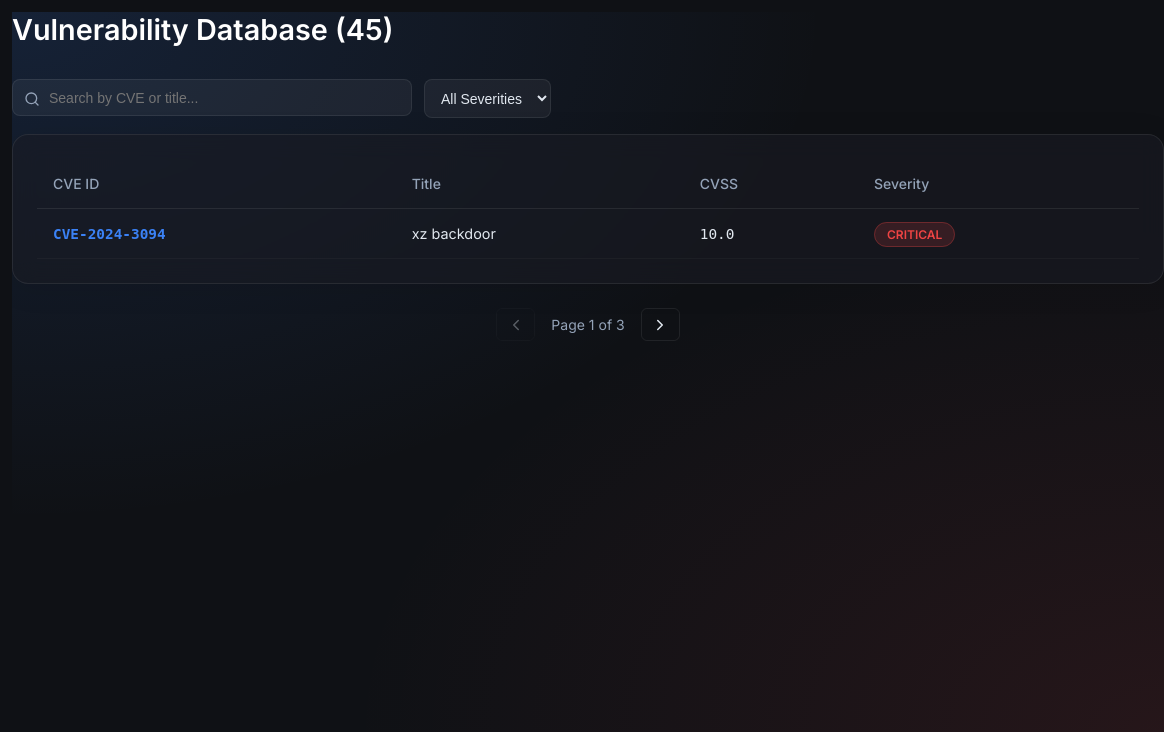
Scenario: VulnerabilitiesList › pages through the catalogue
Click the button named "Next page" at (660, 325), box [641,308,680,341]
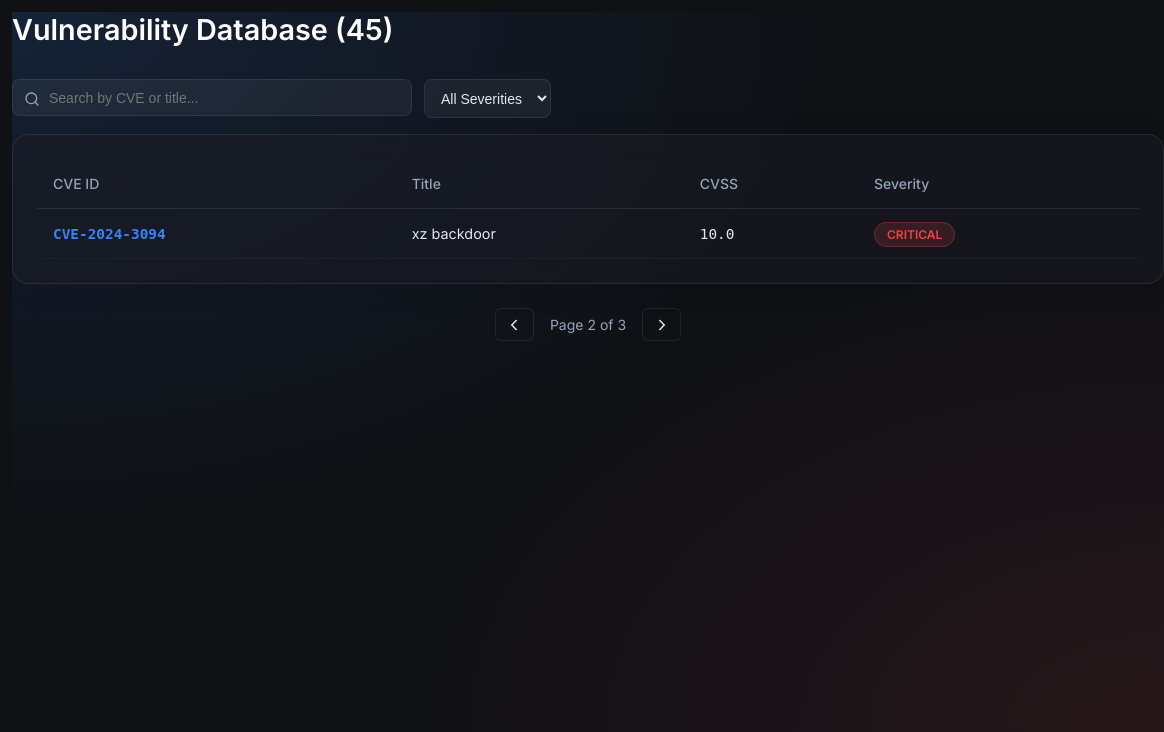
Expected: the text "Page 2 of 3" is shown, [550,316,626,333]
